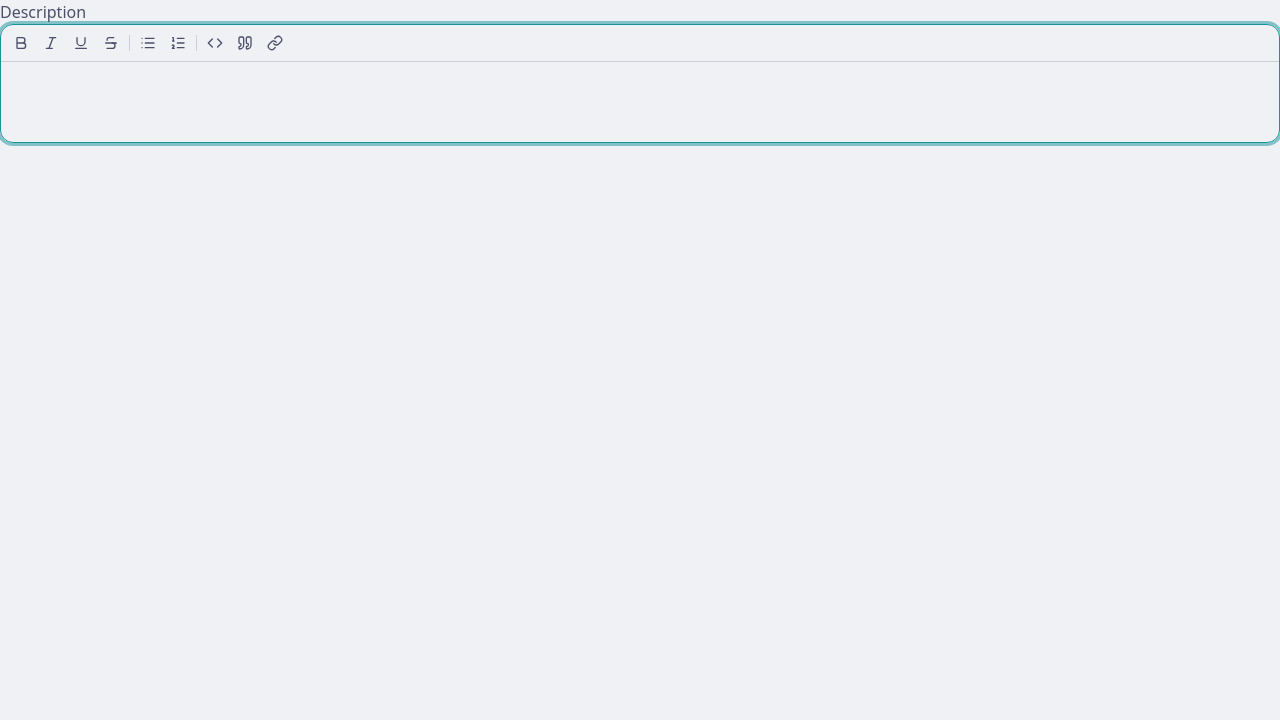
RichTextEditor › links › keeps a scheme the user typed
Type keys "towels"
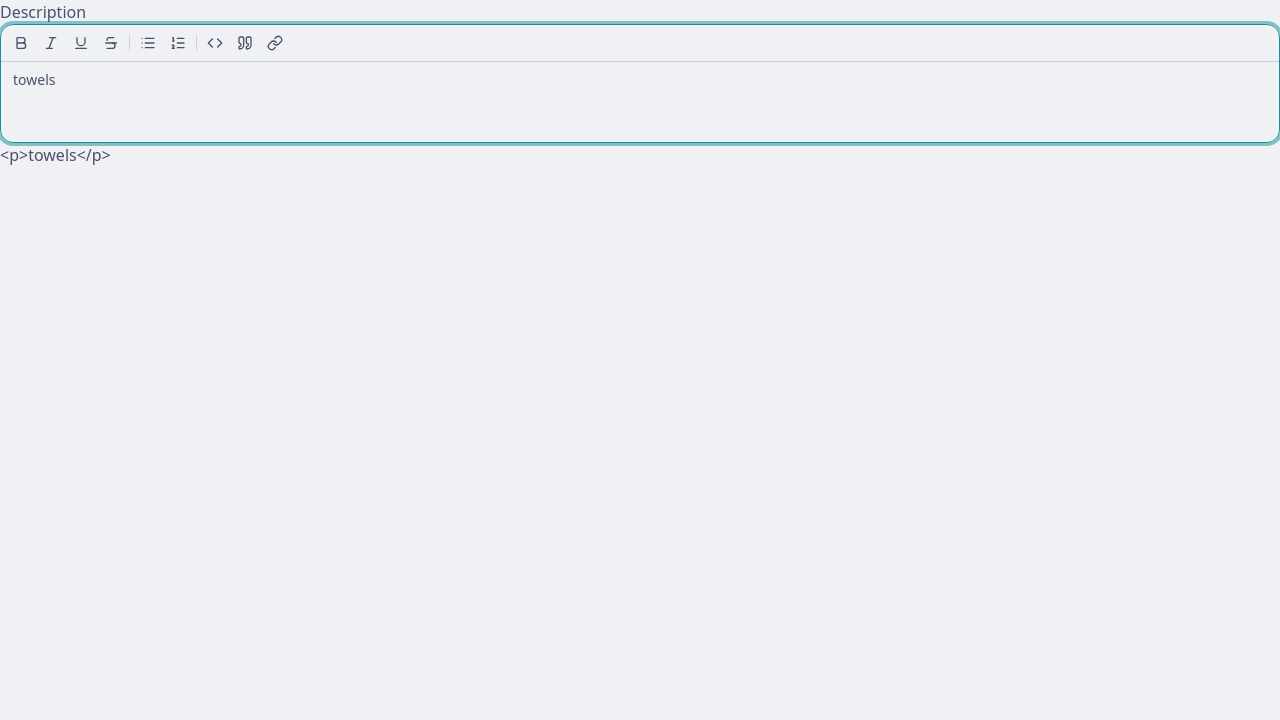
Type keys "{Control>}a{/Control}"
Click the button named "Link".
click(275, 43)  # box [261,29,289,57]
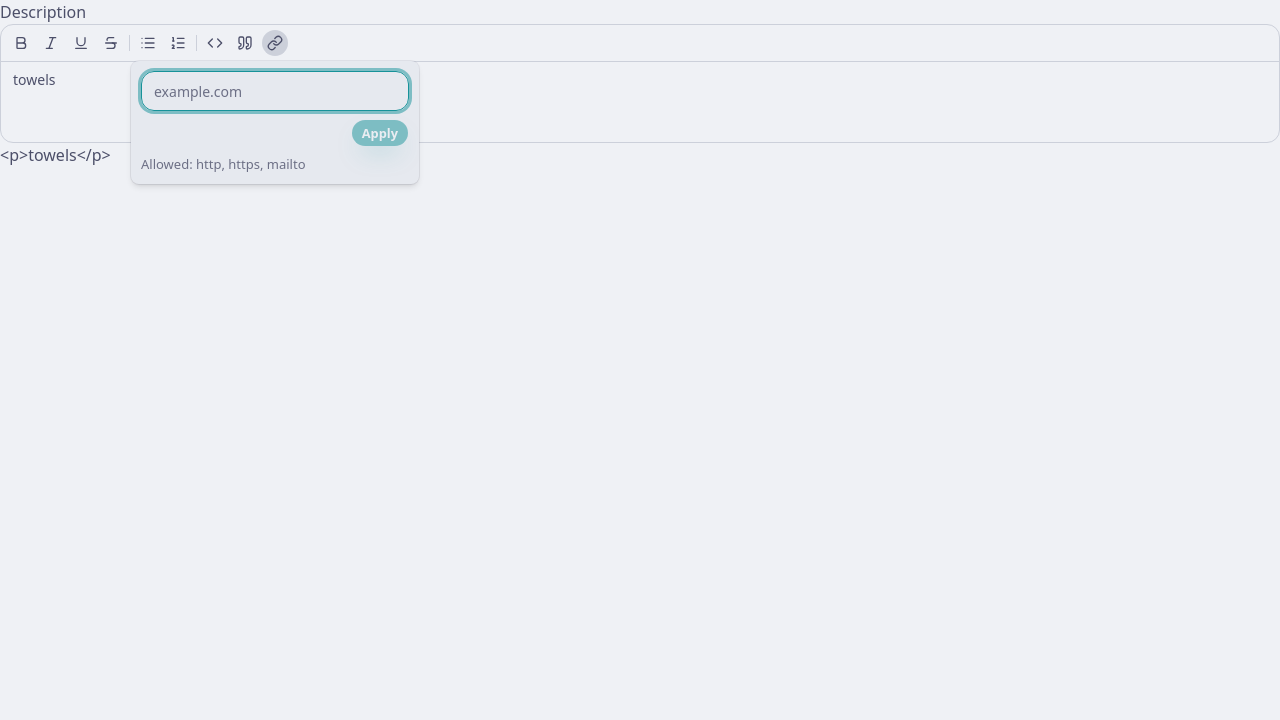
Type "mailto:a@example.com" into the field named "Link address".
click(275, 91); type("mailto:a@example.com")  # box [141,71,409,111]
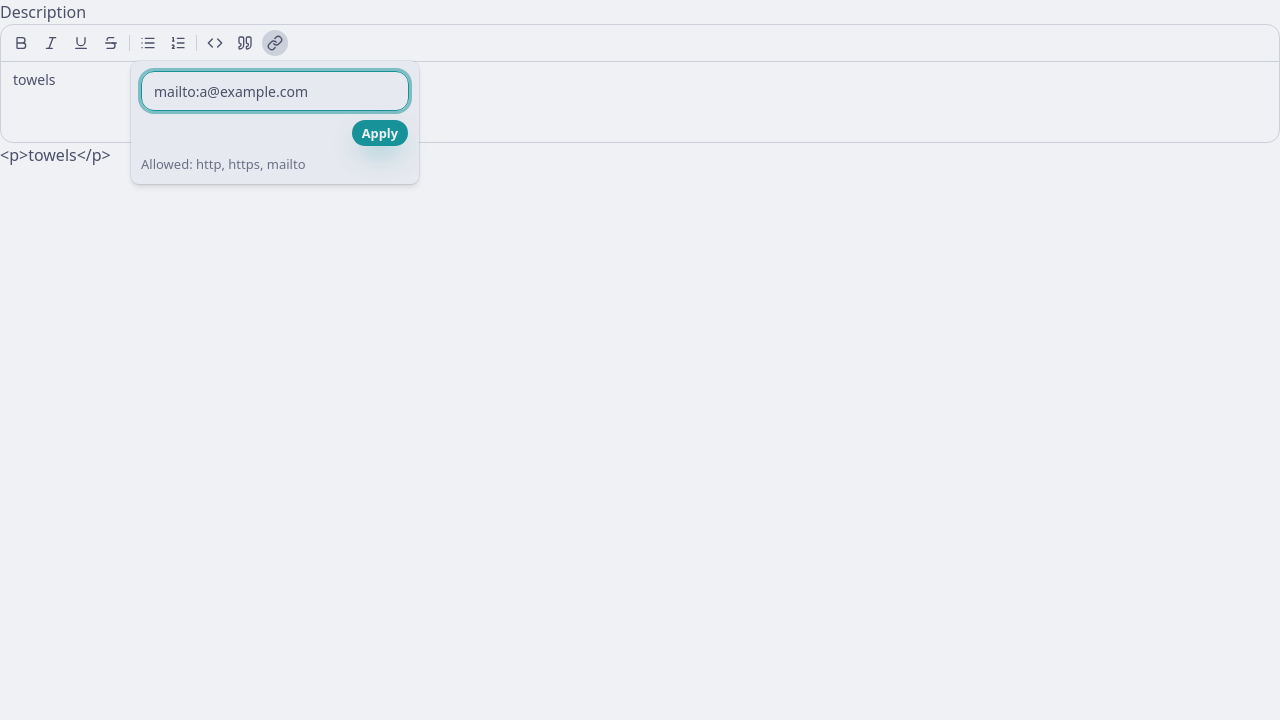
Click the button "Apply".
click(380, 133)  # box [351,119,409,147]
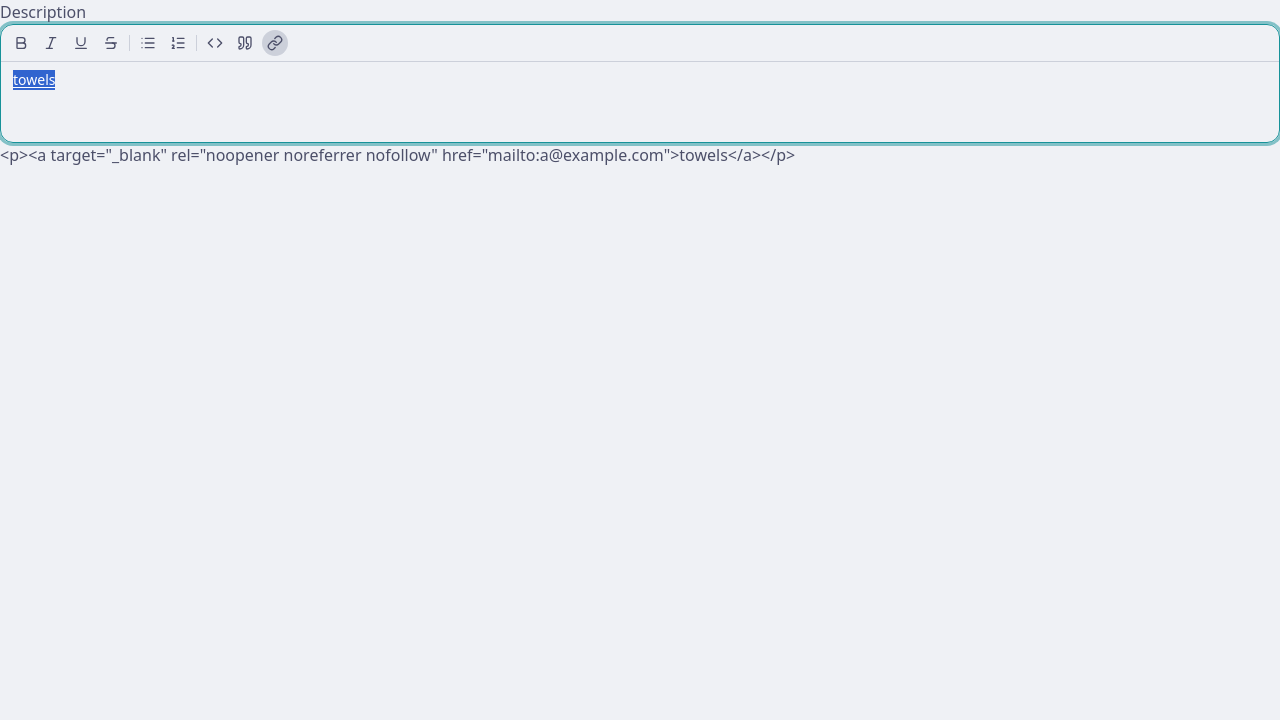
Check: the text with test id "emitted" shows "href=\"mailto:a@example.com\"", box [0,144,795,166]
